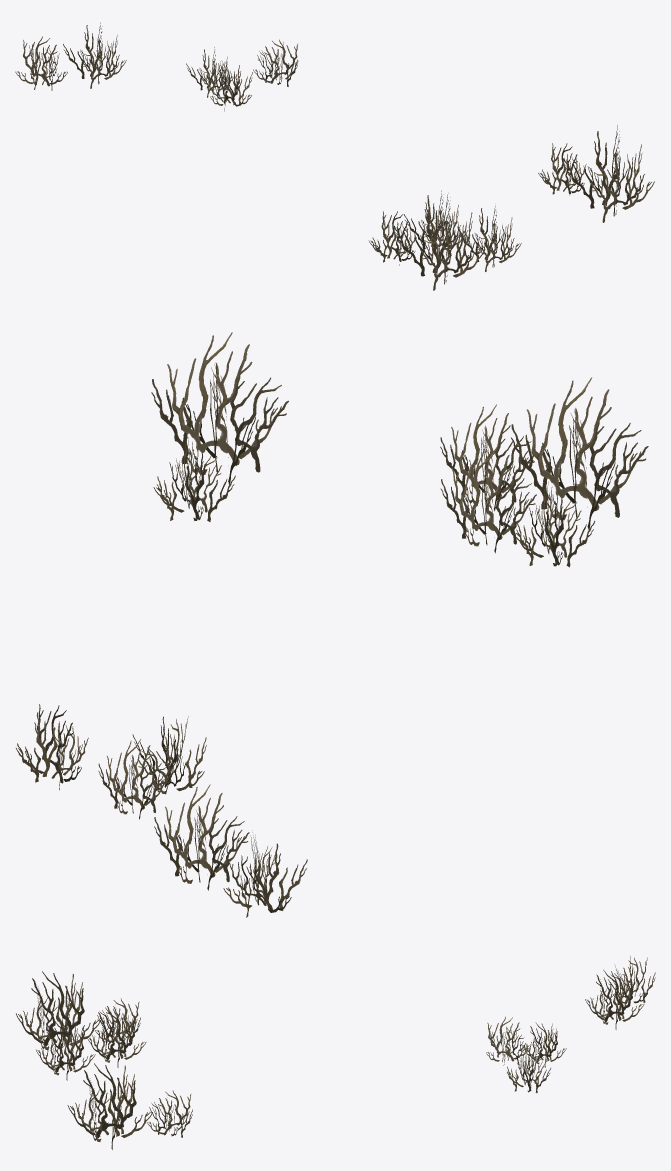
File: Area_05_15.fbx
3 renders of one model, top to bottom at view 1: azimuth 30°, elevation 25°; view 2: azimuth 150°, elevation 25°; view 3: azimuth 270°, elevation 25°, orthographic. The views are drawn at different scales.
Visible parts, largest first — view 1: Area_05_15; view 2: Area_05_15; view 3: Area_05_15.
Part boxes in pixels (bbox=[...]): Area_05_15: bbox=[15, 22, 654, 290]; Area_05_15: bbox=[16, 332, 648, 917]; Area_05_15: bbox=[16, 956, 655, 1149].
Size of the model in its own units: 1749 by 411 by 2824.
1 material, 1 textured.
